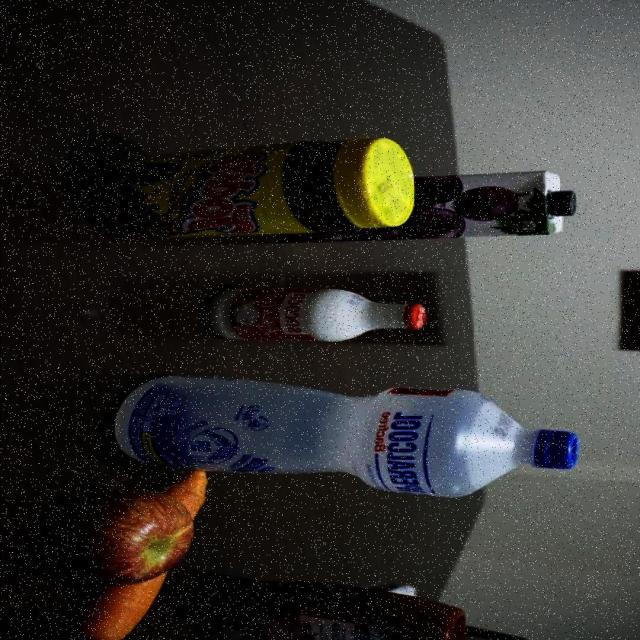AlcoholBottle: (107, 371, 581, 500)
Carrot: (54, 588, 166, 640)
ChocolatePowder: (77, 136, 416, 241)
CoconutMilk: (198, 283, 430, 347)
Ketchup: (185, 571, 472, 640)
